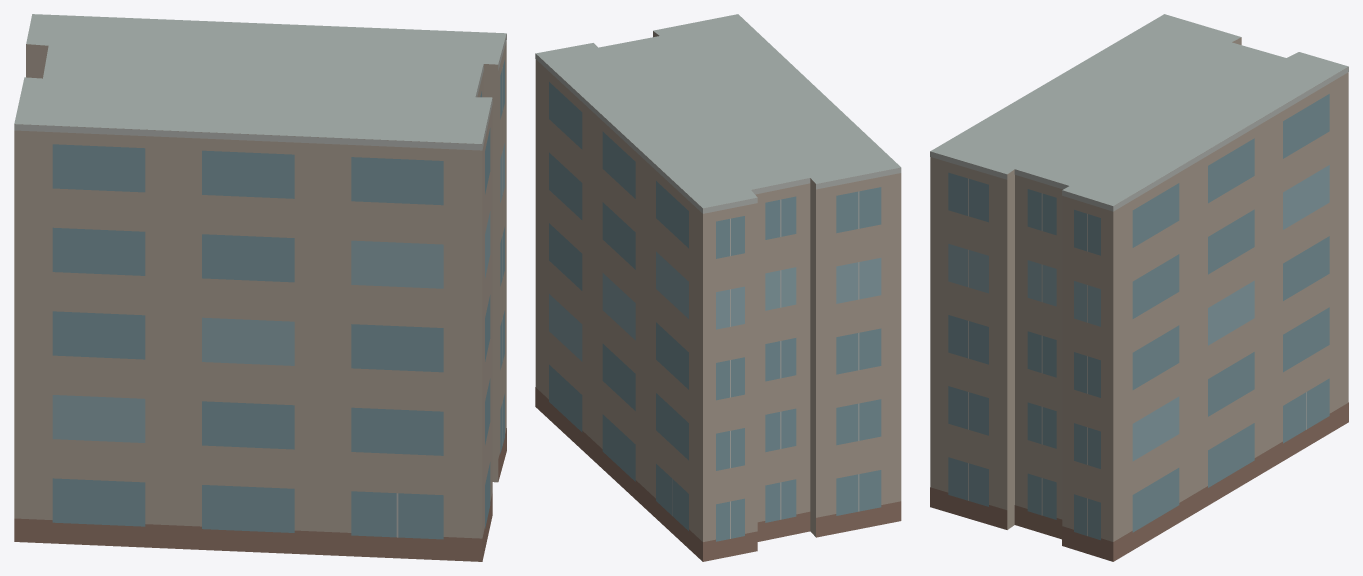
The model's file is survey-upis-32866779.glb.
The picture shows the model from 3 angles, left to right: view 1: azimuth 30°, elevation 25°; view 2: azimuth 150°, elevation 25°; view 3: azimuth 270°, elevation 25°; orthographic projection. The views are drawn at different scales.
Visible parts, largest first — view 1: survey-upis-32866779.tmp; view 2: survey-upis-32866779.tmp; view 3: survey-upis-32866779.tmp.
Part boxes in pixels (box(x1,y1,x2,y2)): survey-upis-32866779.tmp: box(14, 14, 506, 561); survey-upis-32866779.tmp: box(535, 14, 901, 561); survey-upis-32866779.tmp: box(930, 14, 1348, 561).
Bounding box in the file's own units: 18.31 × 15.8 × 16.86.
